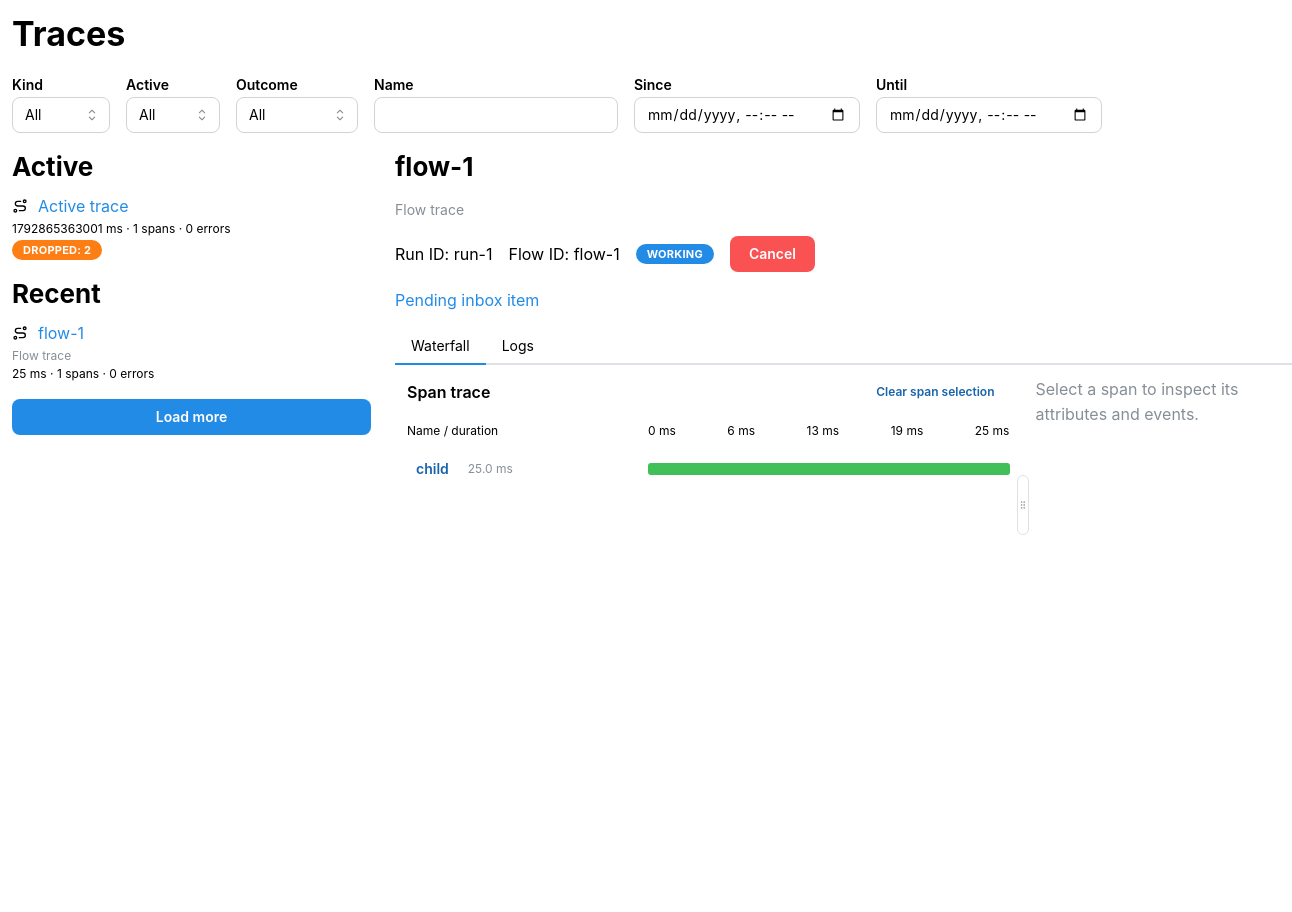
Retry clears a failed Cancel alert
Step 1. Click the button "Cancel" → (772,254), box 730,236 -> 815,272
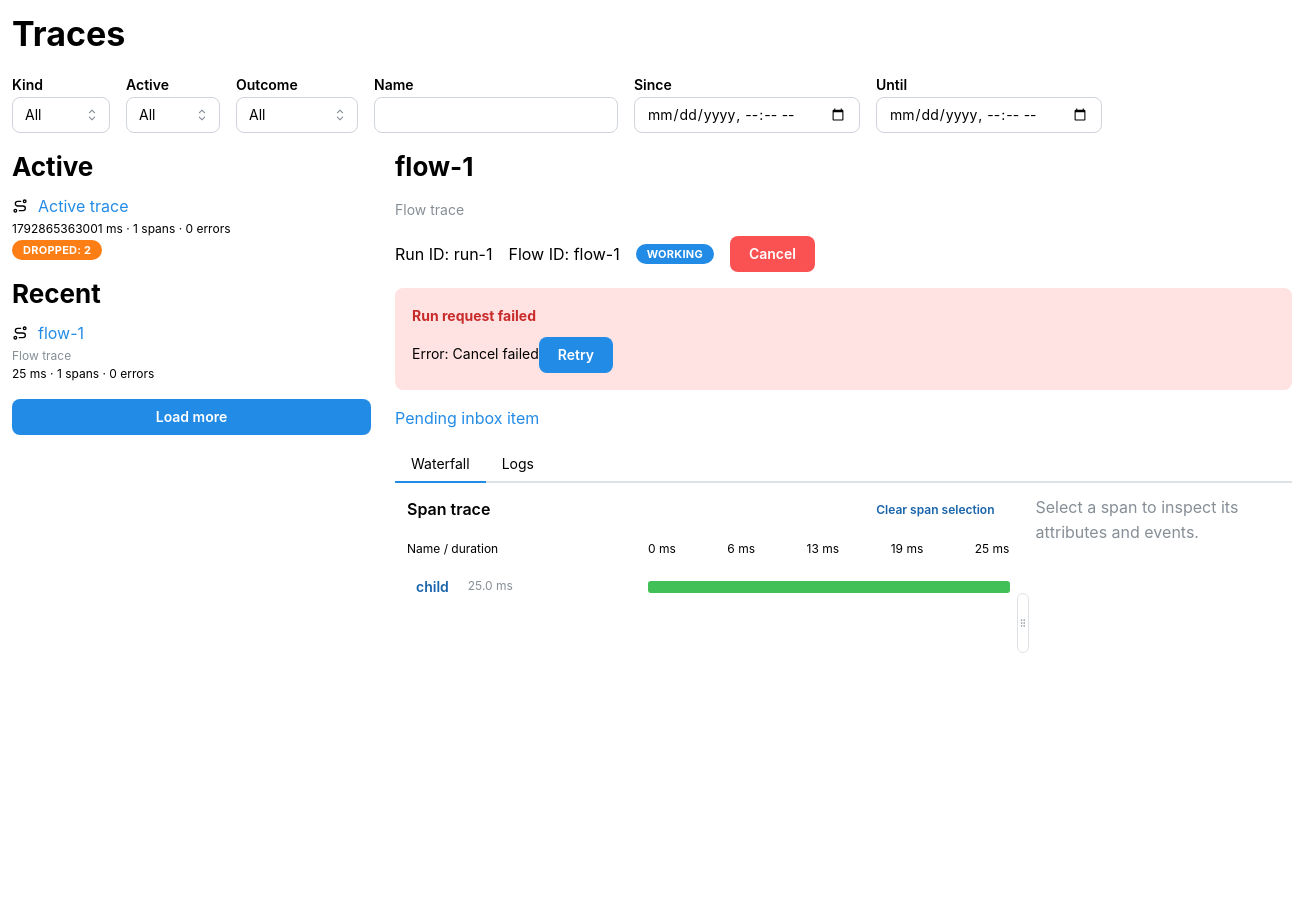
Expected: the text "Error: Cancel failed Retry" is shown, 412,337 -> 613,373
Step 2. Click the button "Retry" → (576,355), box 539,337 -> 613,373
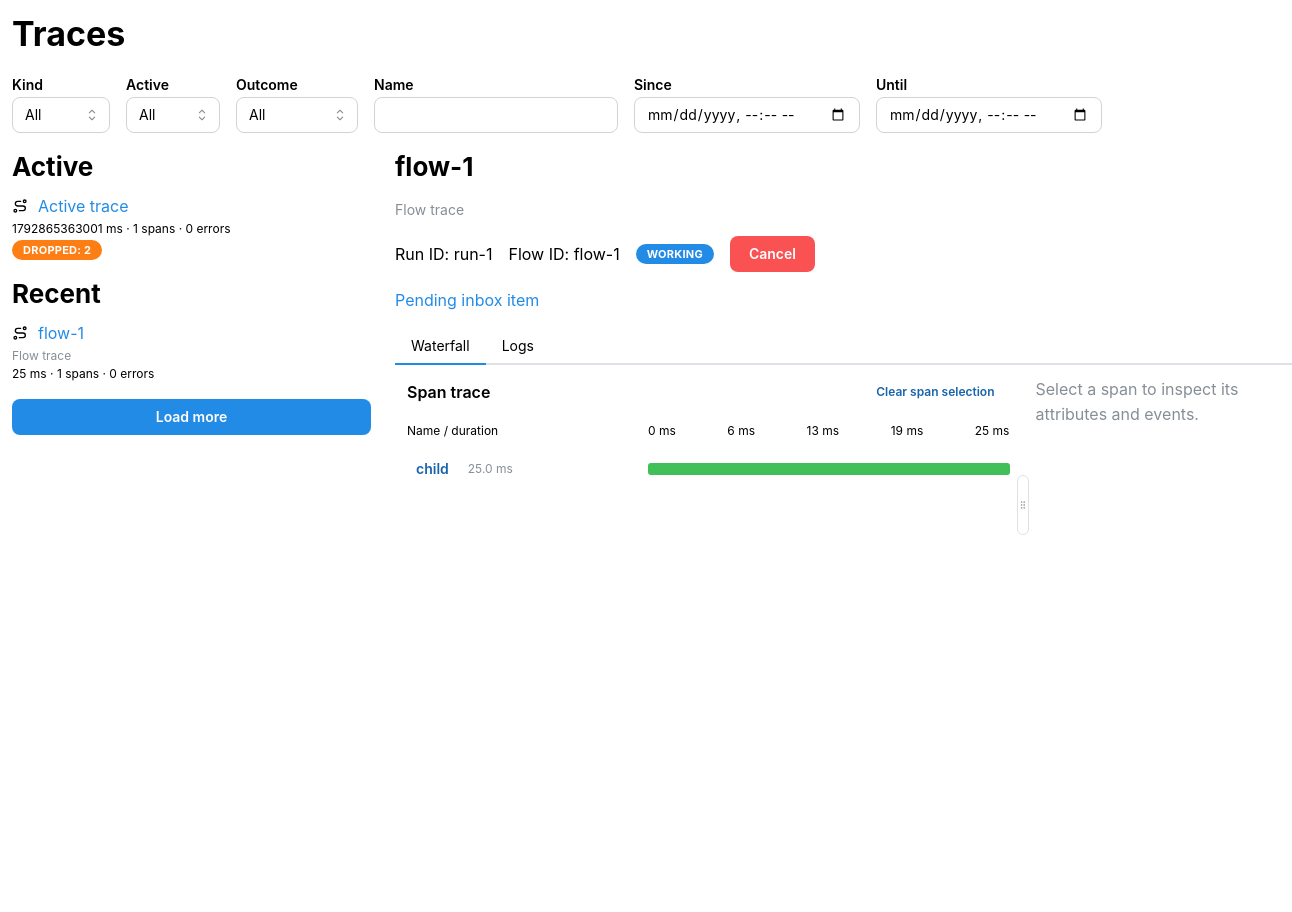
Expected: the message "Run request failed Error: Cancel failed Retry" is gone
